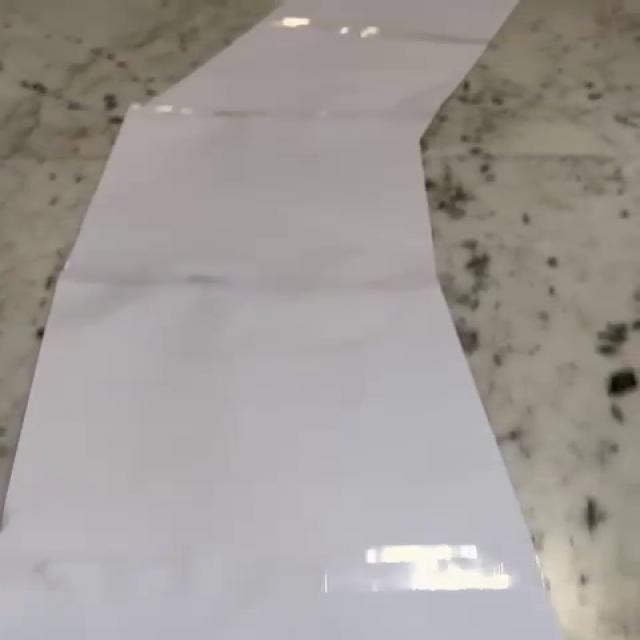road: (1, 0, 560, 640)
